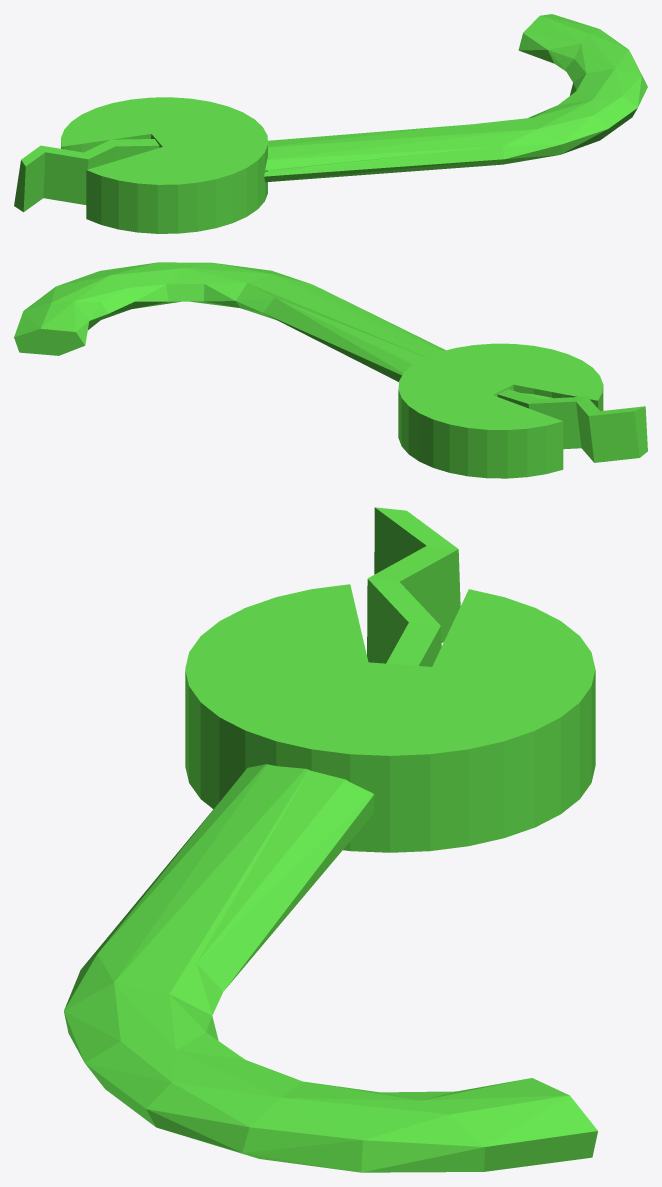
The model's file is Eel.fbx.
3 renders of one model, top to bottom at view 1: azimuth 30°, elevation 25°; view 2: azimuth 150°, elevation 25°; view 3: azimuth 270°, elevation 25°, orthographic. The views are drawn at different scales.
Parts seen in each view (by area): view 1: Cylinder.001, Cylinder; view 2: Cylinder.001, Cylinder; view 3: Cylinder.001, Cylinder.
Part boxes in pixels (x1,y1,x2,y2): Cylinder.001: [14, 97, 267, 233]; Cylinder: [264, 14, 647, 182]; Cylinder.001: [398, 343, 647, 478]; Cylinder: [14, 262, 445, 381]; Cylinder.001: [185, 507, 595, 852]; Cylinder: [64, 764, 597, 1172].
Size of the model in its own units: 1883 by 182 by 726.
